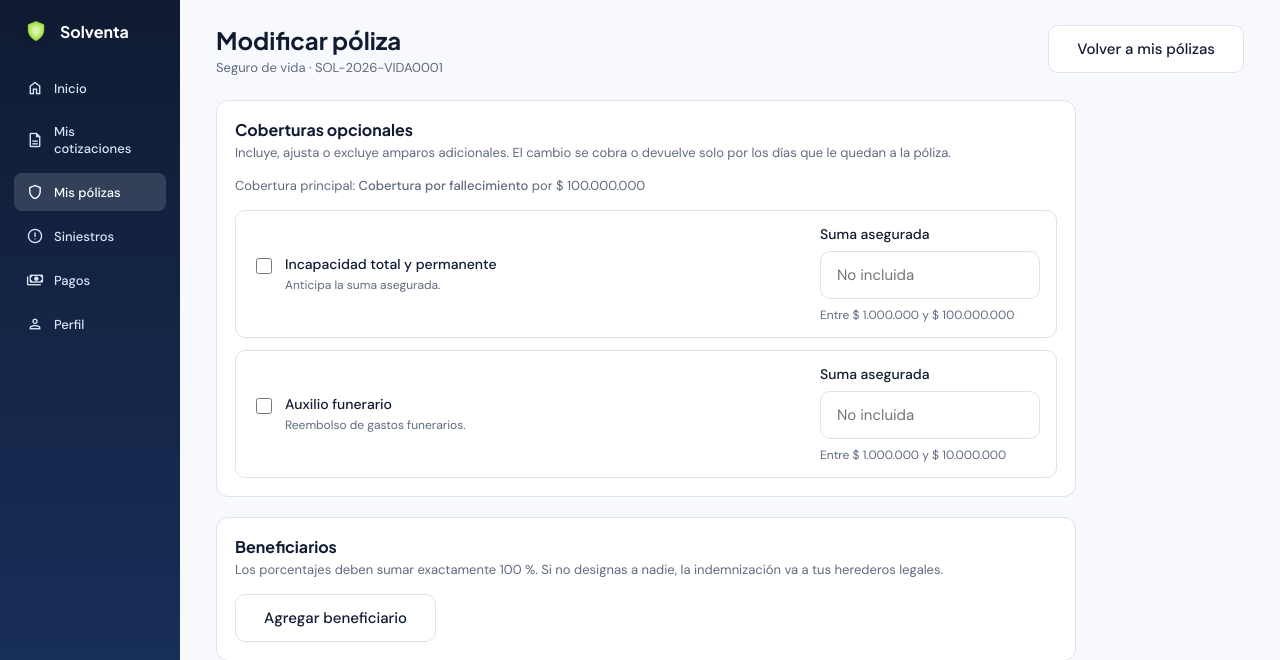
editar después de calcular obliga a recalcular
Click the checkbox labelled "Auxilio funerario Reembolso de gastos funerarios." at (264, 406), box [256,398,272,414]
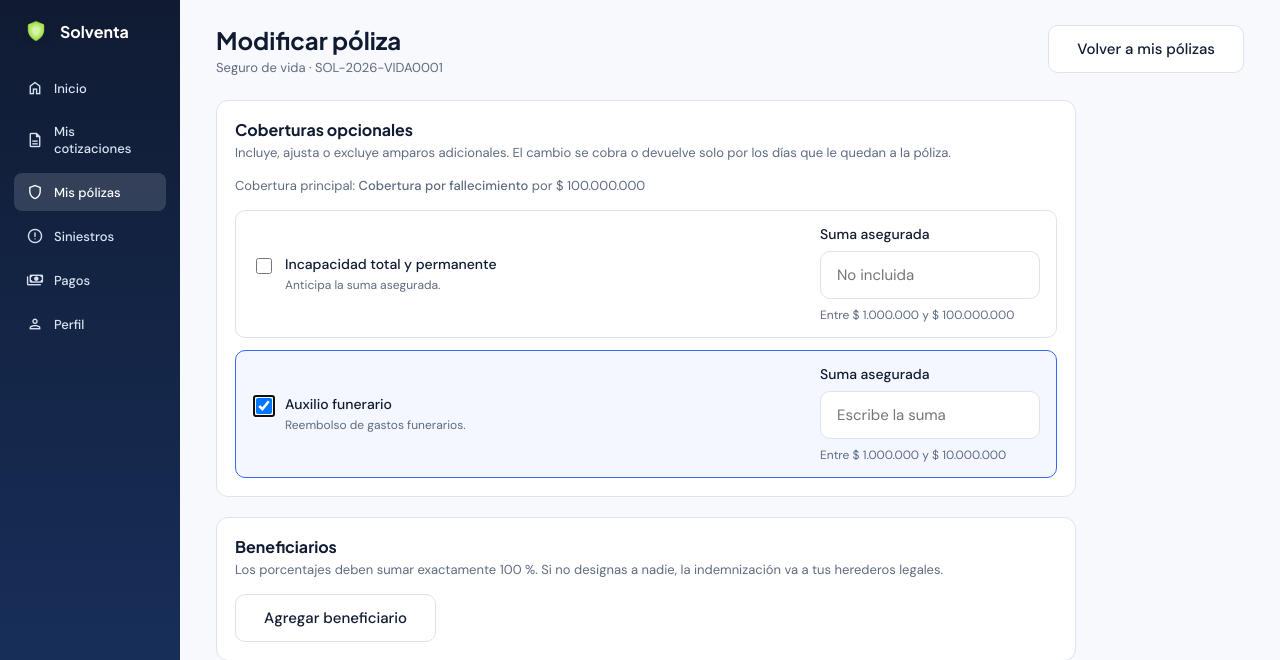
Type "5000000" into the field named "Suma asegurada de Auxilio funerario" at (930, 415), box [820,391,1040,439]
(page scrolled)
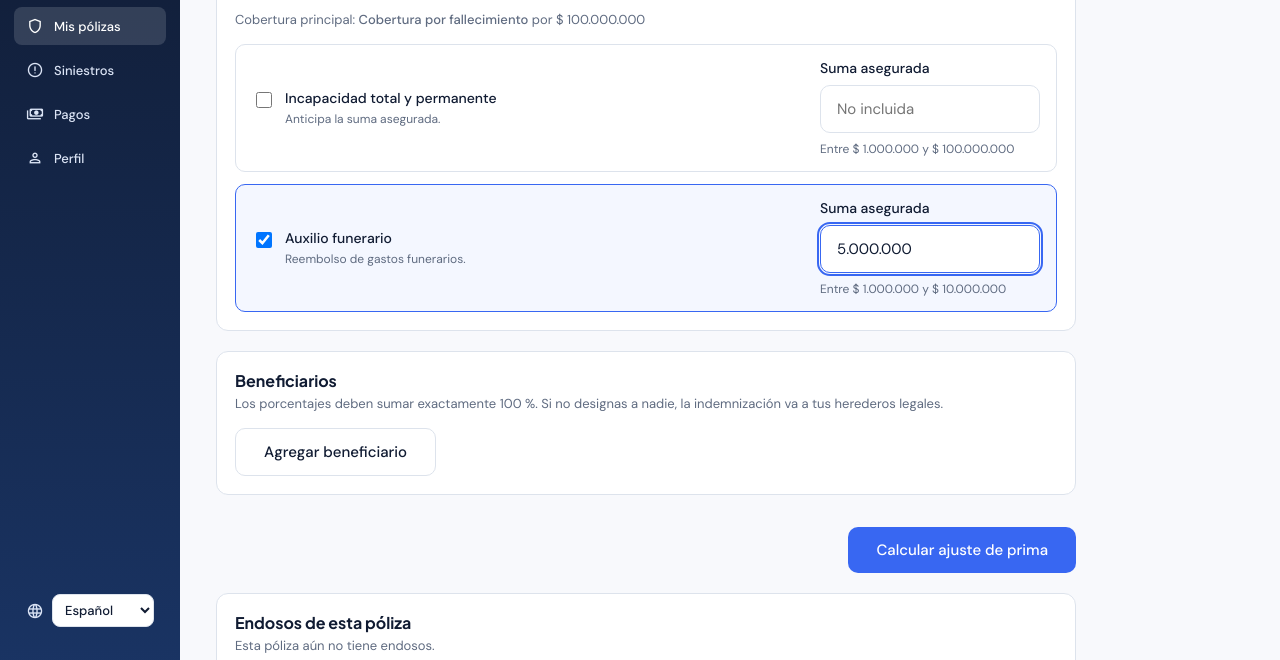
Click the button "Calcular ajuste de prima" at (962, 550), box [848,527,1076,573]
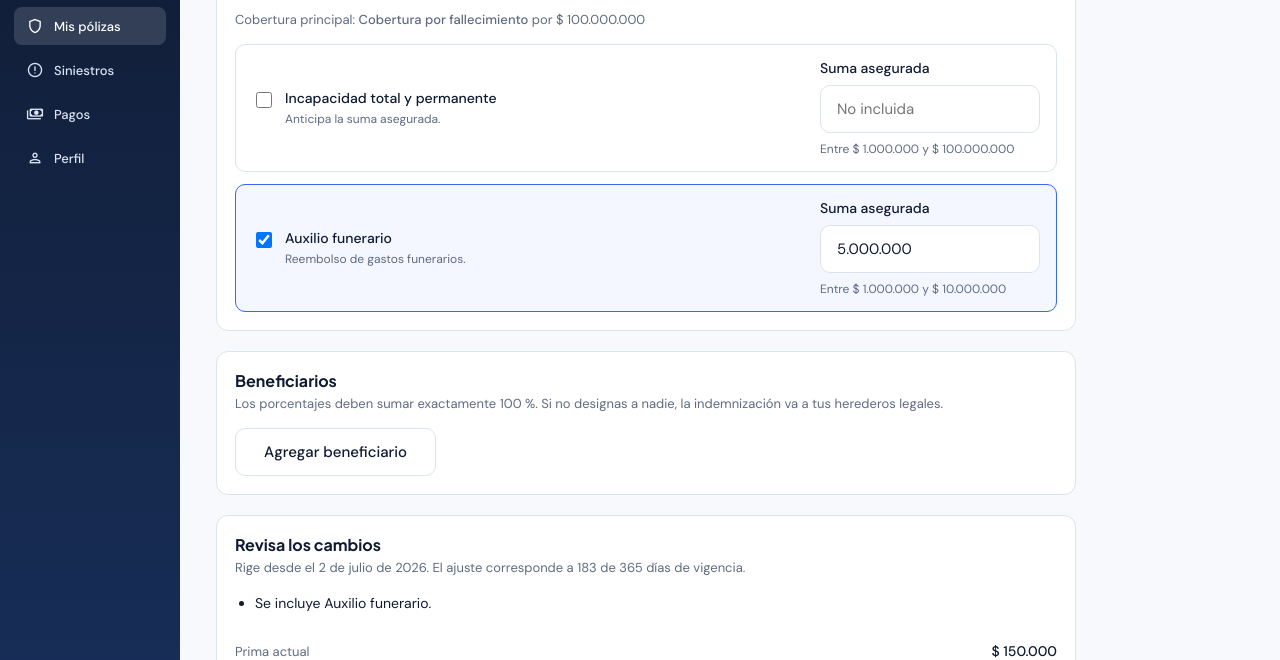
expect the heading "Revisa los cambios" is shown: met, box [235,534,381,555]
Type "0" into the field named "Suma asegurada de Auxilio funerario" at (930, 249), box [820,225,1040,273]
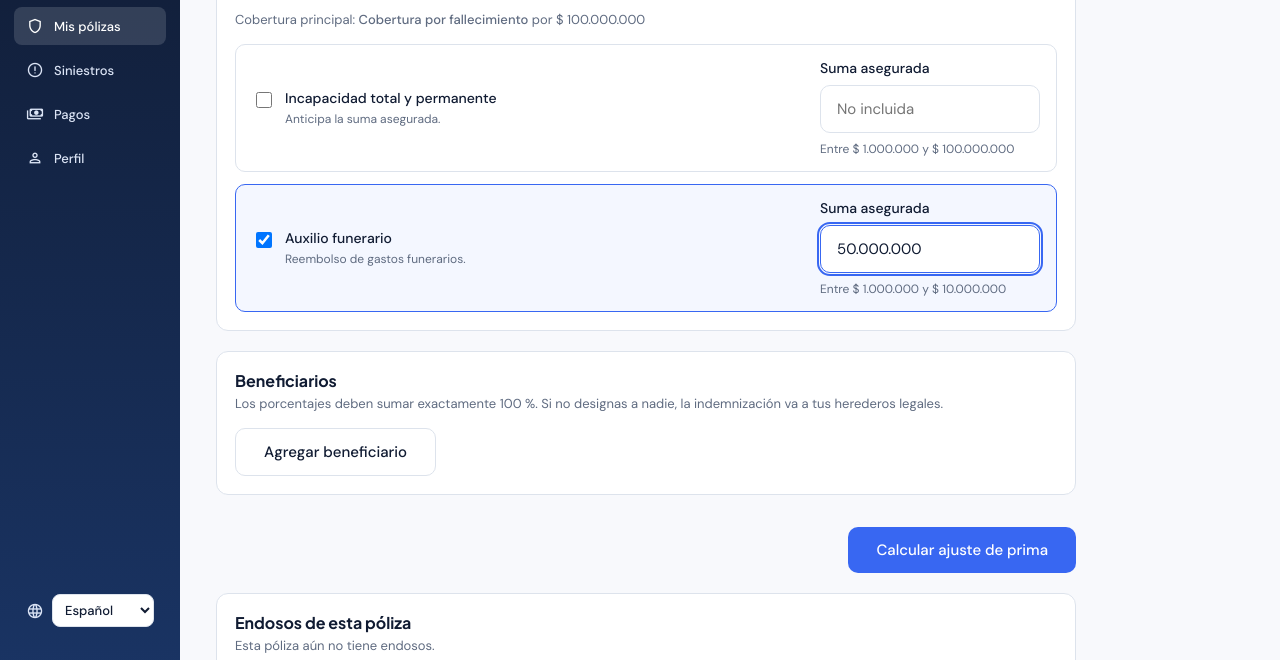
expect the heading "Revisa los cambios" is gone: met
expect the button "Calcular ajuste de prima" is enabled: met, box [848,527,1076,573]
